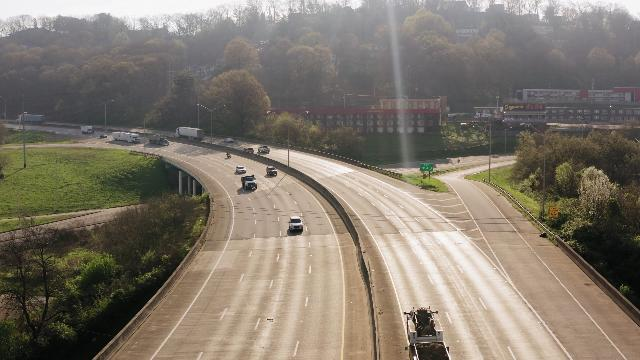car: (287, 214, 304, 236), (265, 166, 279, 178), (258, 145, 272, 154), (236, 164, 248, 174), (243, 147, 253, 155), (225, 137, 233, 143), (99, 133, 108, 138)
motorcycle: (226, 152, 233, 158)
pickup-truck: (397, 303, 457, 360)
truck: (174, 127, 204, 141), (111, 131, 141, 145), (240, 174, 259, 193), (148, 134, 171, 146), (79, 125, 94, 134)
